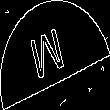M_S: (34, 23, 76, 87)
